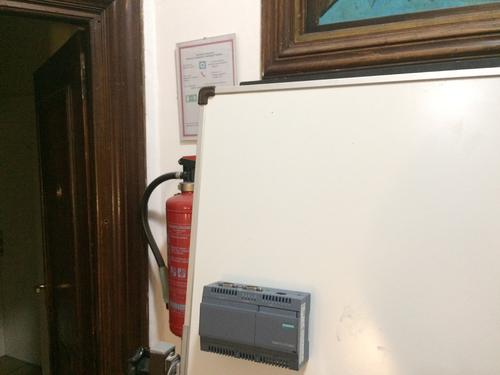iot2000: (197, 280, 311, 372)
